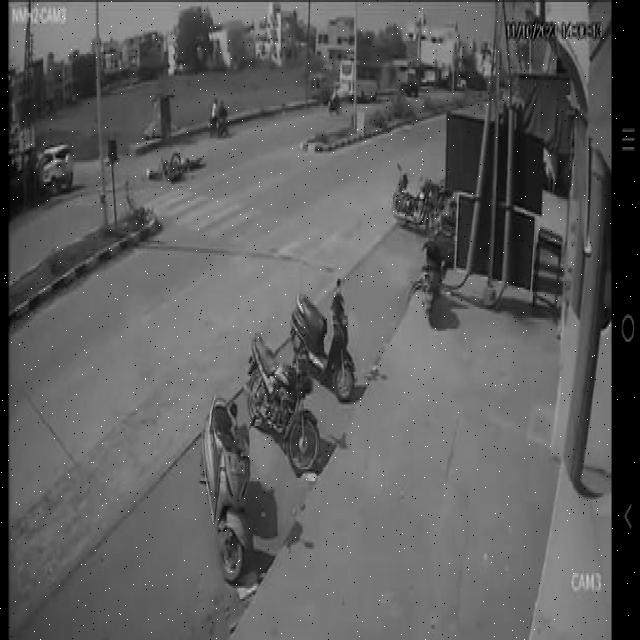accident: (145, 145, 206, 192)
